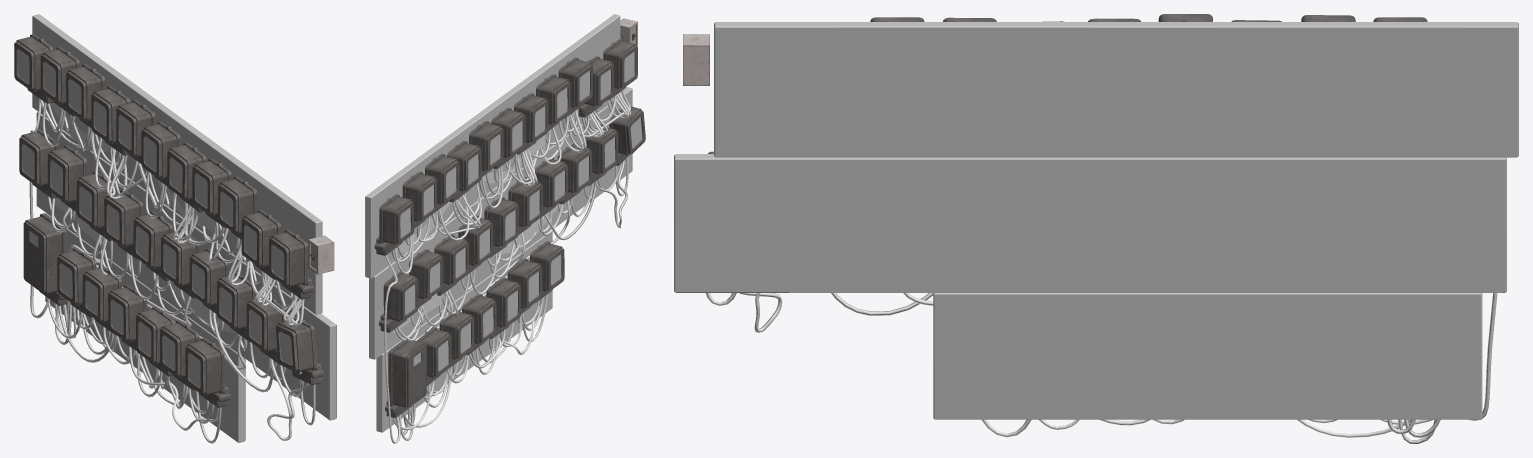
File: ElectricalBoard_A.fbx
3 views of the same model, side by side, from view 1: azimuth 30°, elevation 25°; view 2: azimuth 150°, elevation 25°; view 3: azimuth 270°, elevation 25° (orthographic). The views are drawn at different scales.
Parts seen in each view (by area): view 1: ElectricalBoard_A; view 2: ElectricalBoard_A; view 3: ElectricalBoard_A.
Part boxes in pixels (x1,y1,x2,y2): ElectricalBoard_A: (14,14,336,443); ElectricalBoard_A: (365,14,645,443); ElectricalBoard_A: (674,14,1518,443).
Size of the model in its own units: 16.88 by 147 by 263.
